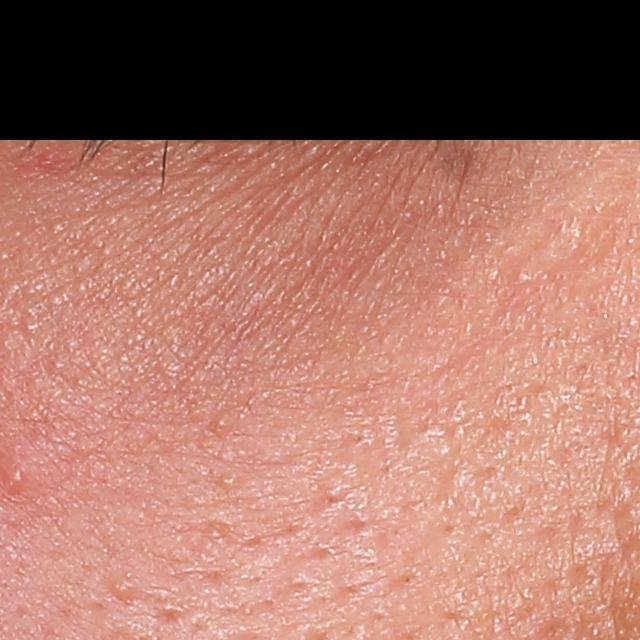comedo: (219, 474, 237, 488)
